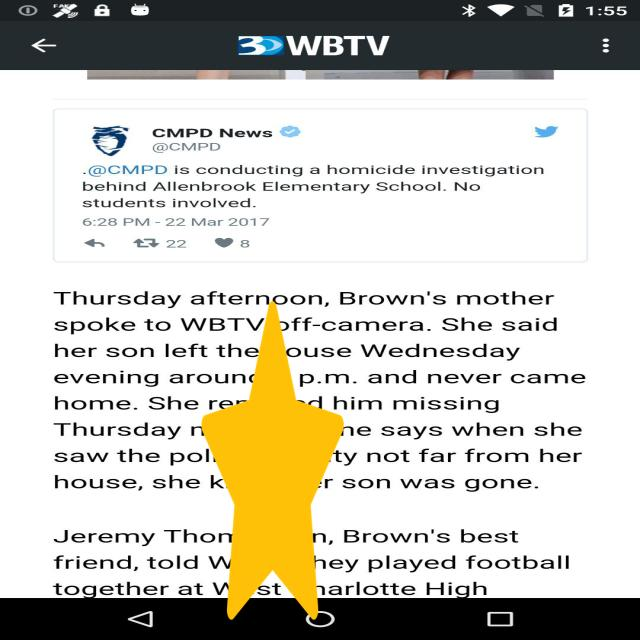forced continuity: (202, 301, 344, 620)
